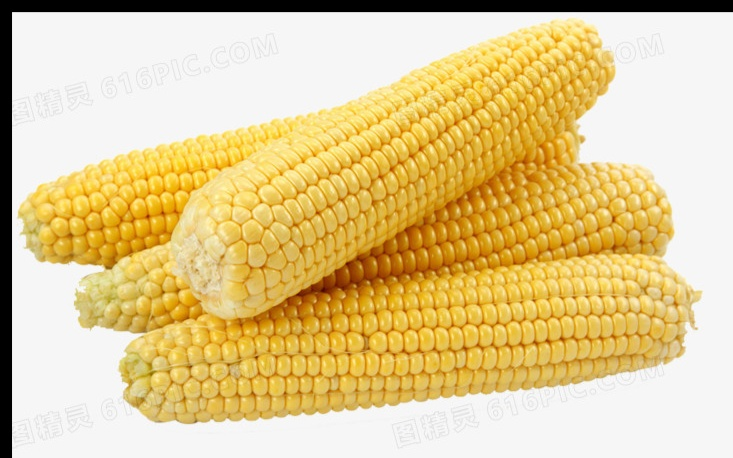corn: (195, 23, 605, 304), (13, 64, 588, 264), (77, 158, 675, 331), (140, 251, 695, 425)
